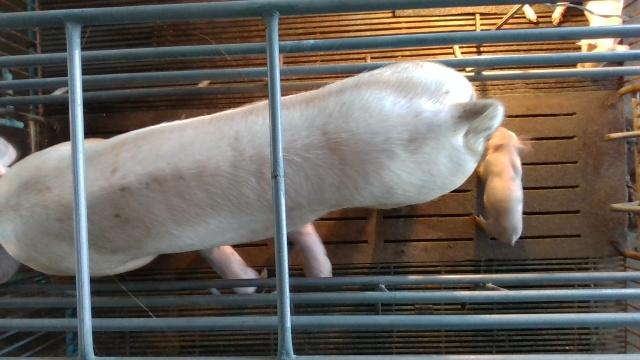piglet: (473, 127, 523, 246), (552, 0, 629, 68), (198, 246, 260, 294), (287, 221, 333, 277)
sow-stand-feed: (0, 61, 505, 285)
